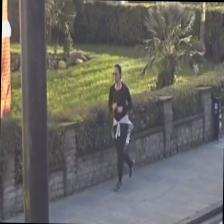person: (106, 63, 132, 191)
